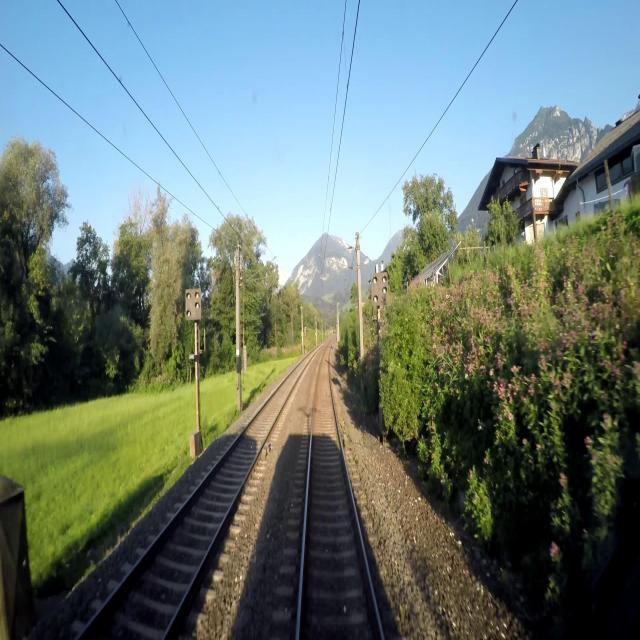rail-track: (81, 361, 305, 639), (301, 348, 380, 639)
